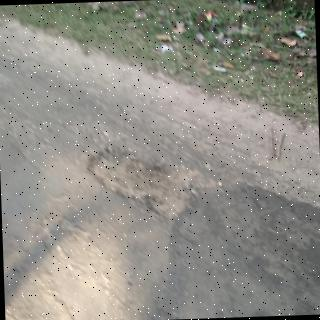pothole: (88, 150, 222, 219)
